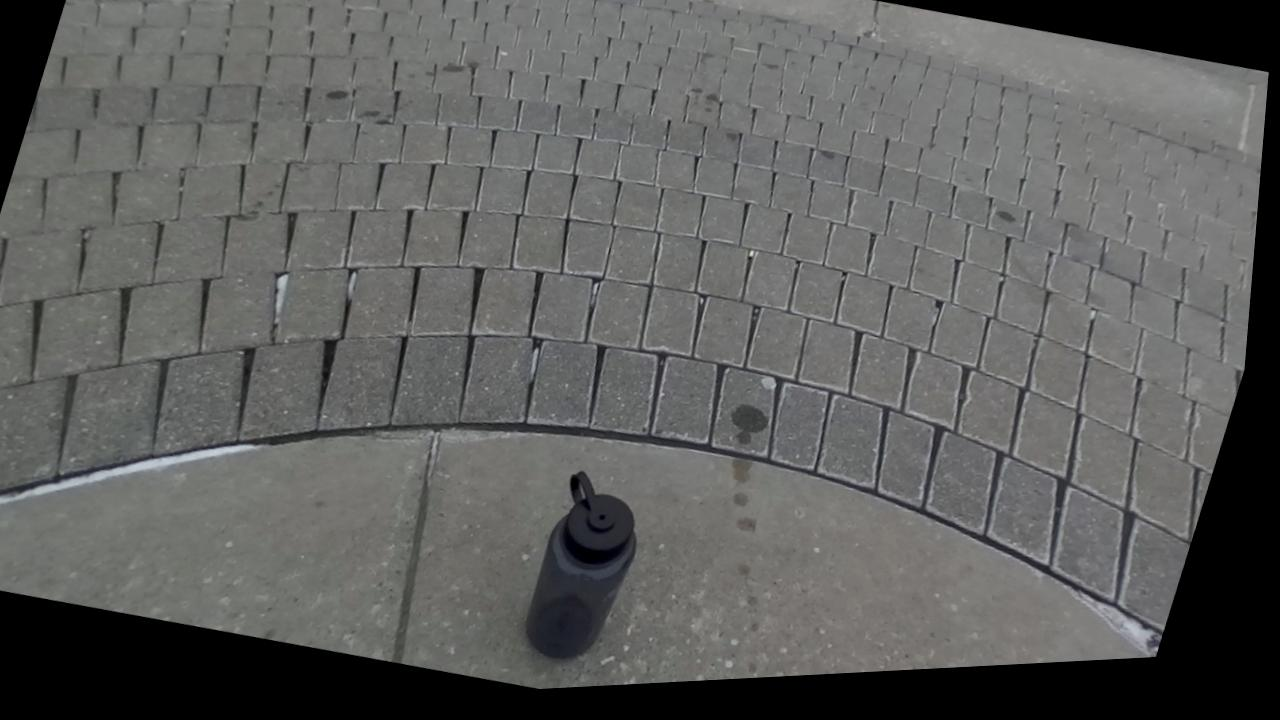bottle: (525, 472, 635, 657)
